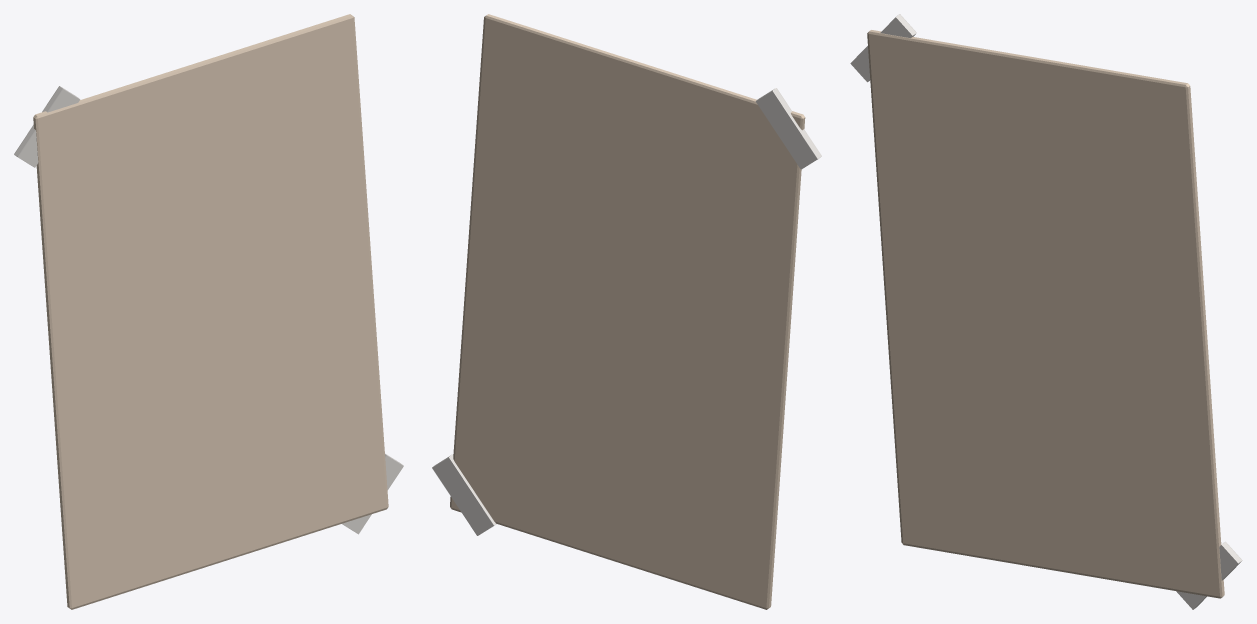
The model's file is sign_taped.fbx.
The picture shows the model from 3 angles, left to right: view 1: azimuth 30°, elevation 25°; view 2: azimuth 150°, elevation 25°; view 3: azimuth 330°, elevation 25°; orthographic projection.
Parts seen in each view (by area): view 1: sign_taped, tape_1, tape_2; view 2: sign_taped, tape_1, tape_2; view 3: sign_taped, tape_1, tape_2.
Boxes of the visible parts, <box> form: sign_taped: <box>33,14,388,609</box>; tape_1: <box>14,86,80,167</box>; tape_2: <box>342,453,403,534</box>; sign_taped: <box>450,14,805,609</box>; tape_1: <box>755,88,821,169</box>; tape_2: <box>432,454,496,535</box>; sign_taped: <box>867,30,1224,598</box>; tape_1: <box>850,14,916,82</box>; tape_2: <box>1176,541,1242,609</box>.
Size of the model in its own units: 1.21 by 1.57 by 0.0266.
